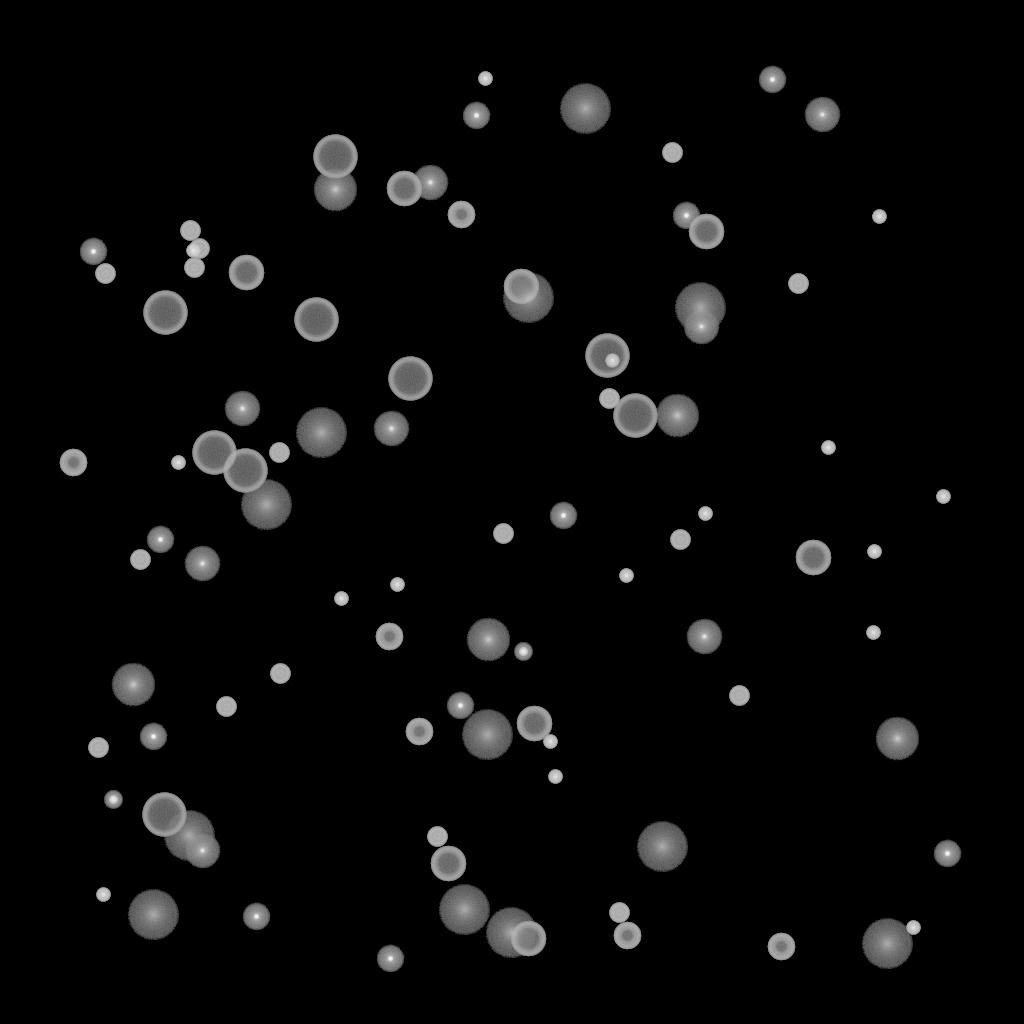depth:-10: (446, 692, 474, 720), (462, 102, 490, 130), (79, 238, 107, 266), (242, 903, 270, 931), (146, 526, 174, 554), (672, 202, 700, 230), (376, 945, 404, 973), (933, 840, 961, 868), (758, 66, 786, 94), (549, 502, 577, 530), (139, 723, 167, 751)
depth:-20: (104, 791, 122, 809), (514, 643, 532, 661)
depth:-30: (936, 490, 950, 504), (605, 354, 619, 368), (186, 244, 200, 258), (96, 888, 110, 902), (872, 210, 886, 224), (821, 441, 835, 455), (698, 507, 712, 521), (171, 456, 185, 470), (619, 569, 633, 583), (906, 921, 920, 935), (334, 592, 348, 606), (390, 578, 404, 592), (867, 545, 881, 559), (548, 770, 562, 784), (478, 72, 492, 86), (543, 735, 557, 749), (866, 626, 880, 640)
depth:-40: (184, 258, 204, 278), (609, 903, 629, 923), (670, 530, 690, 550), (130, 550, 150, 570), (269, 443, 289, 463), (493, 524, 513, 544), (788, 274, 808, 294), (599, 389, 619, 409), (729, 686, 749, 706), (662, 143, 682, 163), (270, 664, 290, 684), (95, 264, 115, 284), (180, 221, 200, 241), (88, 738, 108, 758), (189, 239, 209, 259), (216, 697, 236, 717), (427, 827, 447, 847)
depth:-50: (613, 922, 641, 950), (405, 718, 433, 746), (59, 449, 87, 477), (767, 933, 795, 961), (375, 623, 403, 651), (447, 201, 475, 229)
depth:-60: (795, 540, 831, 576), (228, 255, 264, 291), (386, 171, 422, 207), (510, 921, 546, 957), (516, 706, 552, 742), (688, 214, 724, 250), (503, 269, 539, 305), (430, 846, 466, 882)
depth:-70: (585, 334, 629, 378), (192, 431, 236, 475), (142, 793, 186, 837), (294, 298, 338, 342), (143, 291, 187, 335), (223, 449, 267, 493), (388, 357, 432, 401), (313, 135, 357, 179), (613, 394, 657, 438)
depth:0: (683, 309, 719, 345), (804, 97, 840, 133), (686, 619, 722, 655), (184, 546, 220, 582), (373, 411, 409, 447), (412, 165, 448, 201), (224, 391, 260, 427), (184, 833, 220, 869)
depth:10: (655, 394, 699, 438), (466, 618, 510, 662), (875, 717, 919, 761), (313, 168, 357, 212), (111, 663, 155, 707)
depth:20: (674, 283, 726, 333), (461, 710, 513, 760), (636, 822, 688, 872), (295, 408, 347, 458), (163, 811, 215, 861), (438, 885, 490, 935), (861, 919, 913, 969), (240, 480, 292, 530), (485, 908, 537, 958), (502, 273, 554, 323), (127, 890, 179, 940), (559, 84, 611, 134)
